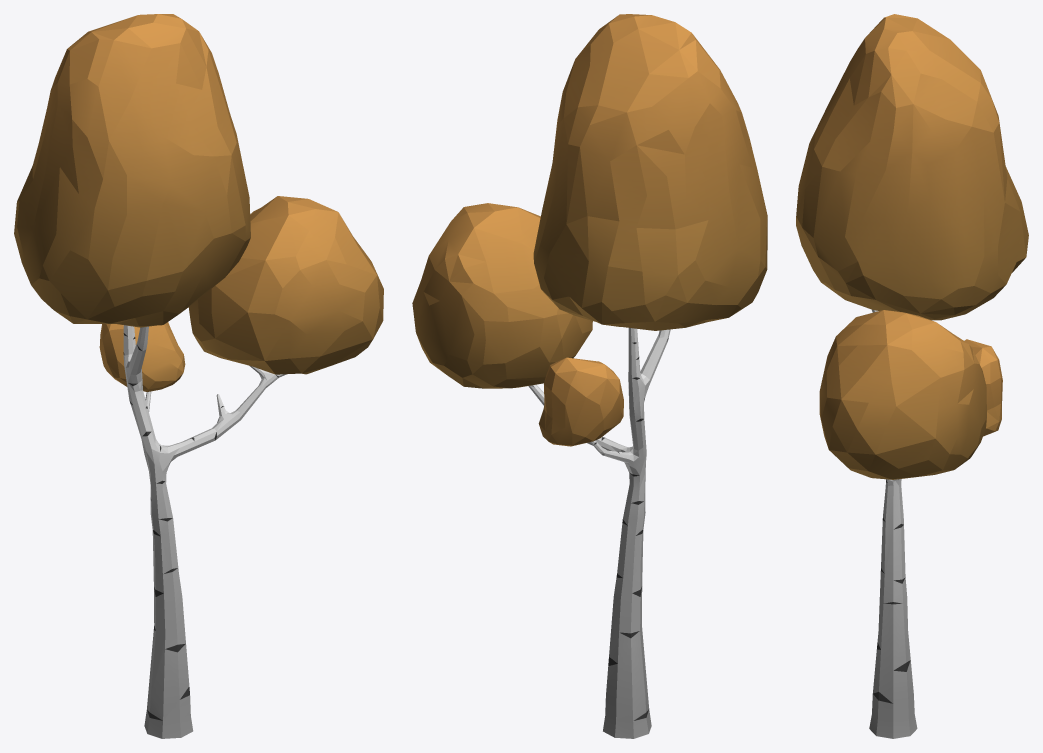
The model's file is Autumn_Tree_15.glb.
The picture shows the model from 3 angles, left to right: view 1: azimuth 30°, elevation 25°; view 2: azimuth 150°, elevation 25°; view 3: azimuth 270°, elevation 25°; orthographic projection. The views are drawn at different scales.
Parts seen in each view (by area): view 1: Autumn_Tree_15_LOD0; view 2: Autumn_Tree_15_LOD0; view 3: Autumn_Tree_15_LOD0.
Part boxes in pixels (x1,y1,x2,y2): Autumn_Tree_15_LOD0: [14, 14, 383, 738]; Autumn_Tree_15_LOD0: [412, 14, 767, 738]; Autumn_Tree_15_LOD0: [796, 14, 1028, 738].
Size of what is drawn, in the model's own units: 3.9 by 7.98 by 2.44.
1 material, 1 textured.
